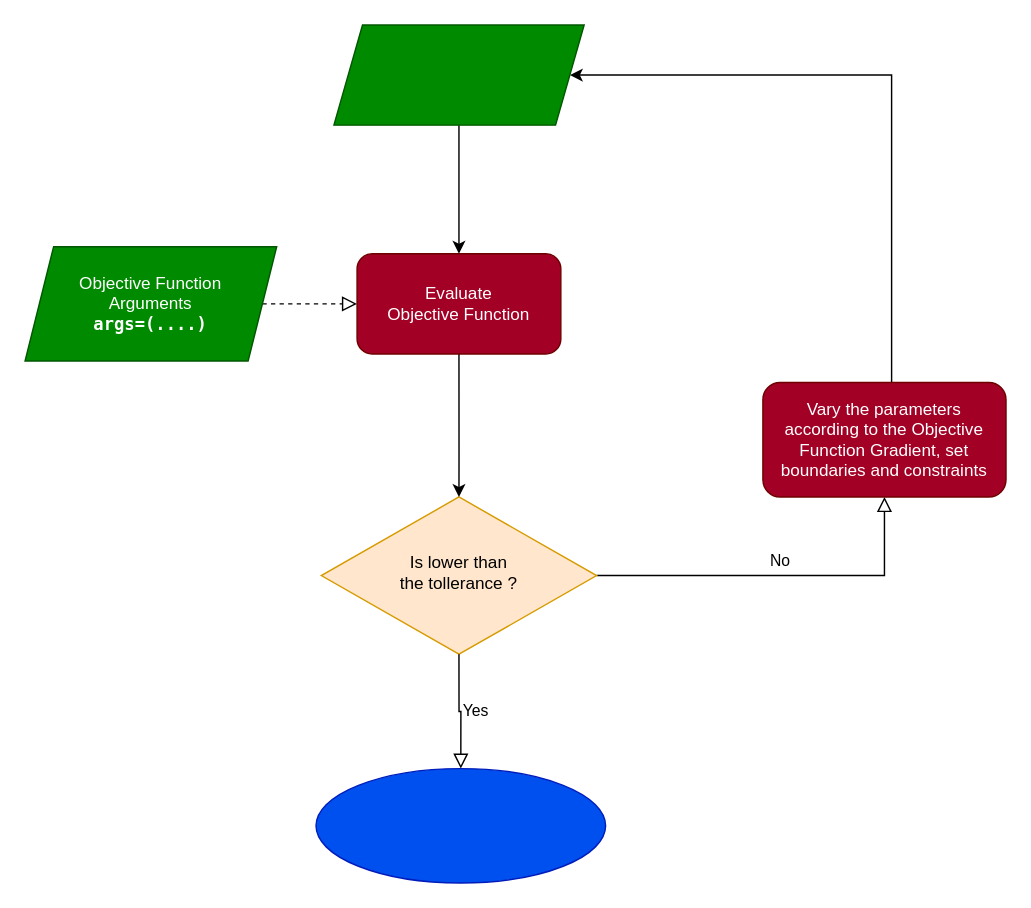
The diagram is 1031 pixels wide and 908 high, and some of its shapes have lost their labels. Here are the shapes that lost their labels. From the top down, the centre of each, then its label:
the point at 458,74: parameters numpy.array(...)
the point at 460,825: return minimiization results/diagnostic
